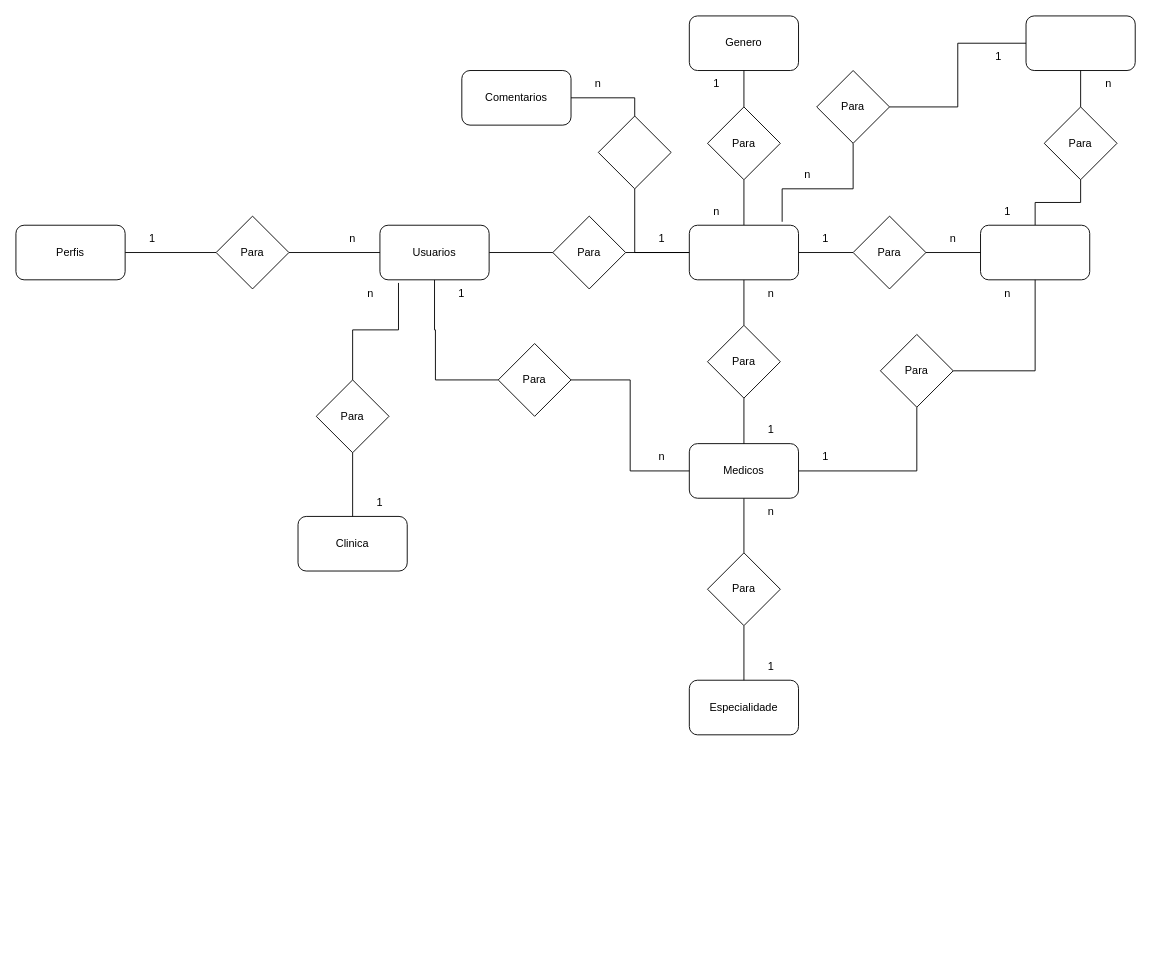
This 1152x969 diagram has some shape labels left out. The shapes that lost their labels are listed below. From the top down, each one's centre as x and y in pixels, then its label:
point (1080, 43): Agendamentos
point (634, 152): Fazer
point (743, 252): Pacientes
point (1035, 252): Consultas
